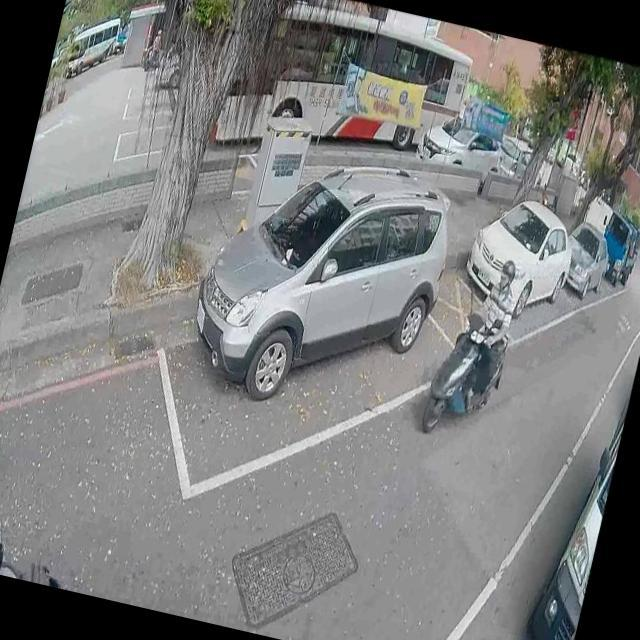person: (444, 250, 526, 415), (0, 496, 16, 573), (144, 22, 165, 69)
